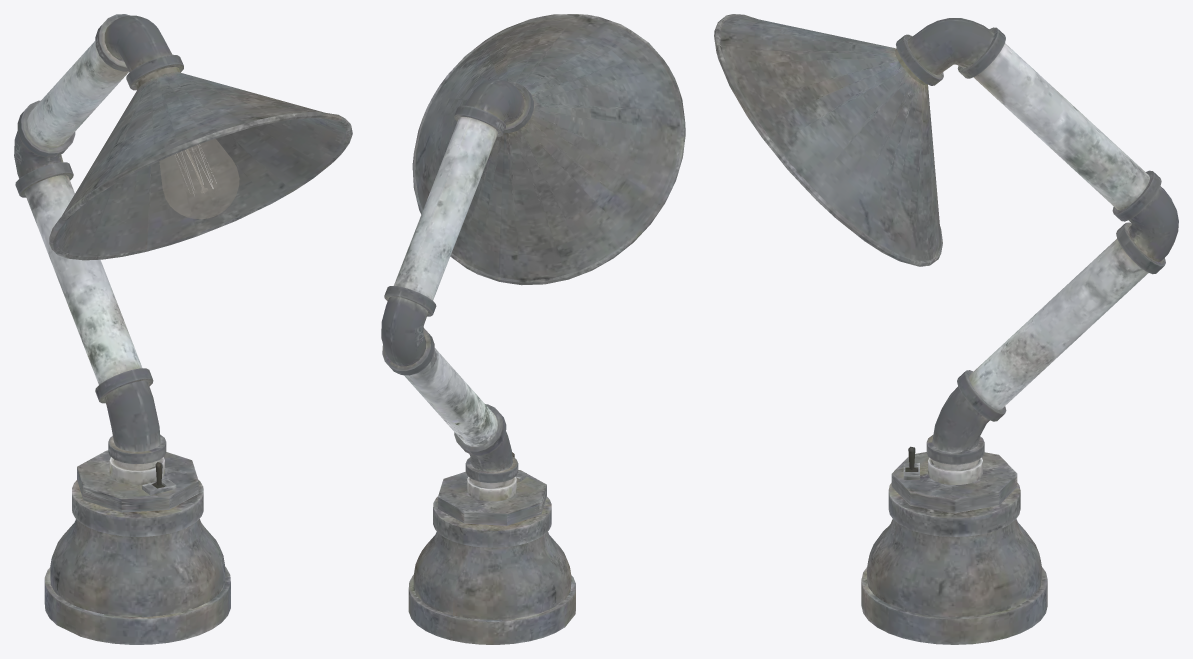
File: ph-industrial_pipe_lamp.glb
The picture shows the model from 3 angles, left to right: view 1: azimuth 30°, elevation 25°; view 2: azimuth 150°, elevation 25°; view 3: azimuth 270°, elevation 25°; orthographic projection. The views are drawn at different scales.
Parts seen in each view (by area): view 1: industrial_pipe_lamp, industrial_pipe_lamp_bulb; view 2: industrial_pipe_lamp; view 3: industrial_pipe_lamp.
Boxes of the visible parts, x1=… form: industrial_pipe_lamp: x1=14, y1=14, x2=352, y2=644; industrial_pipe_lamp_bulb: x1=159, y1=139, x2=239, y2=218; industrial_pipe_lamp: x1=381, y1=14, x2=685, y2=644; industrial_pipe_lamp: x1=714, y1=14, x2=1178, y2=644.
Bounding box in the file's own units: 0.1826 × 0.3641 × 0.2621.
2 materials, 2 textured.
